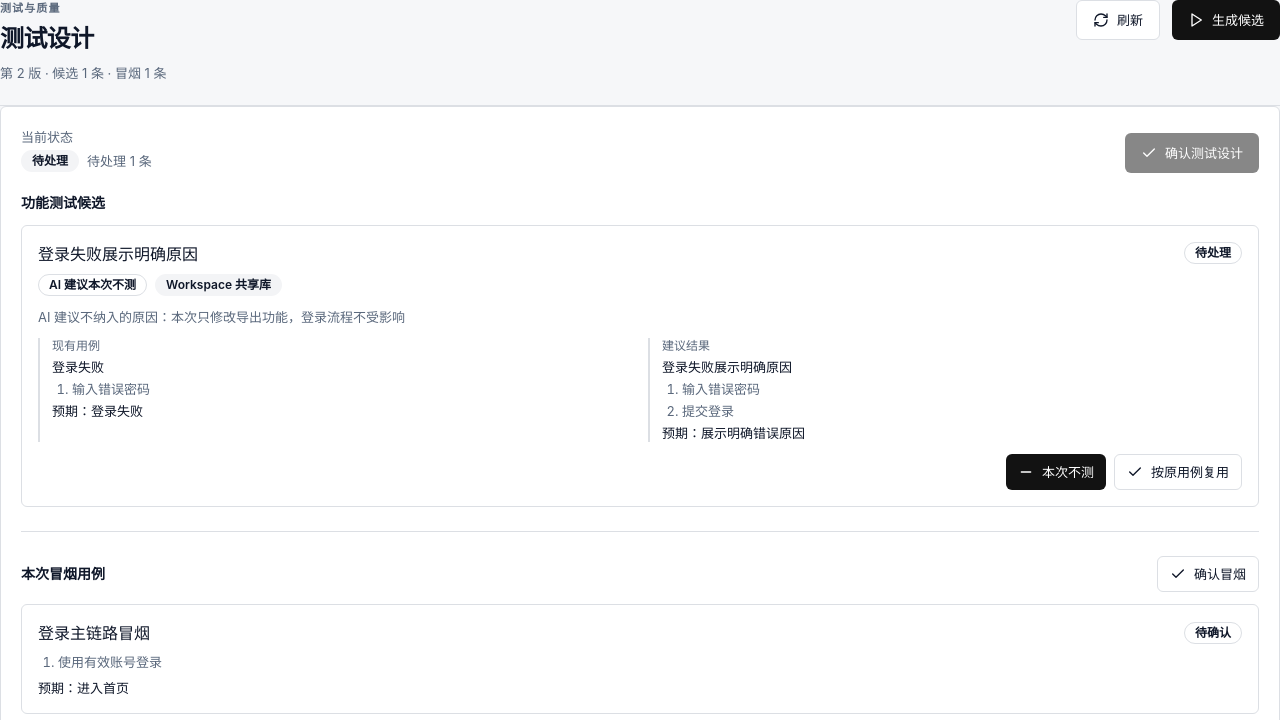
it: QualityTestDesignPage › makes the exclusion decision explicit when choosing 按原用例复用
Expected: the element that starts with "登录失败展示明确原因" shows "AI 建议本次不测", [49,276,136,292]
Expected: the text named "处理状态" reads "待处理", [1195,244,1231,260]
Step 1. Click the button "按原用例复用" → [1178, 472], box [1114,454,1242,490]
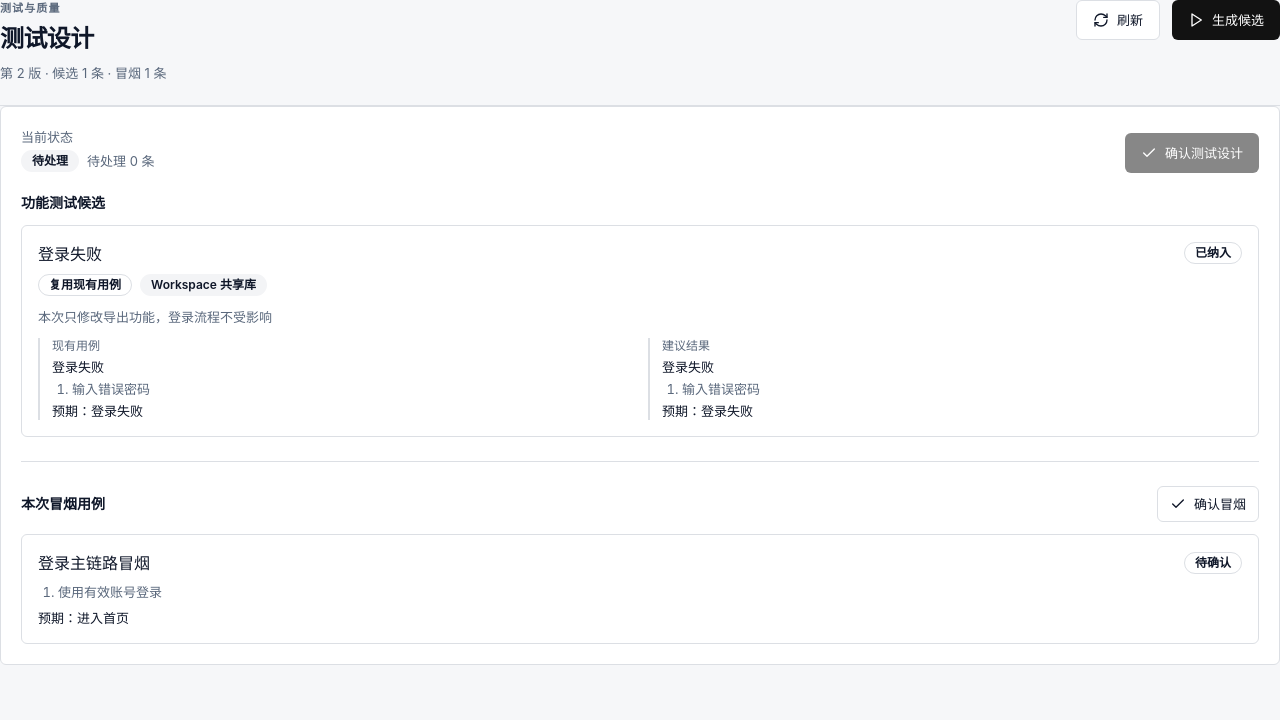
Result: the text named "处理状态" reads "已纳入" at [1195,244,1231,260]
Result: the button "本次不测" is gone
